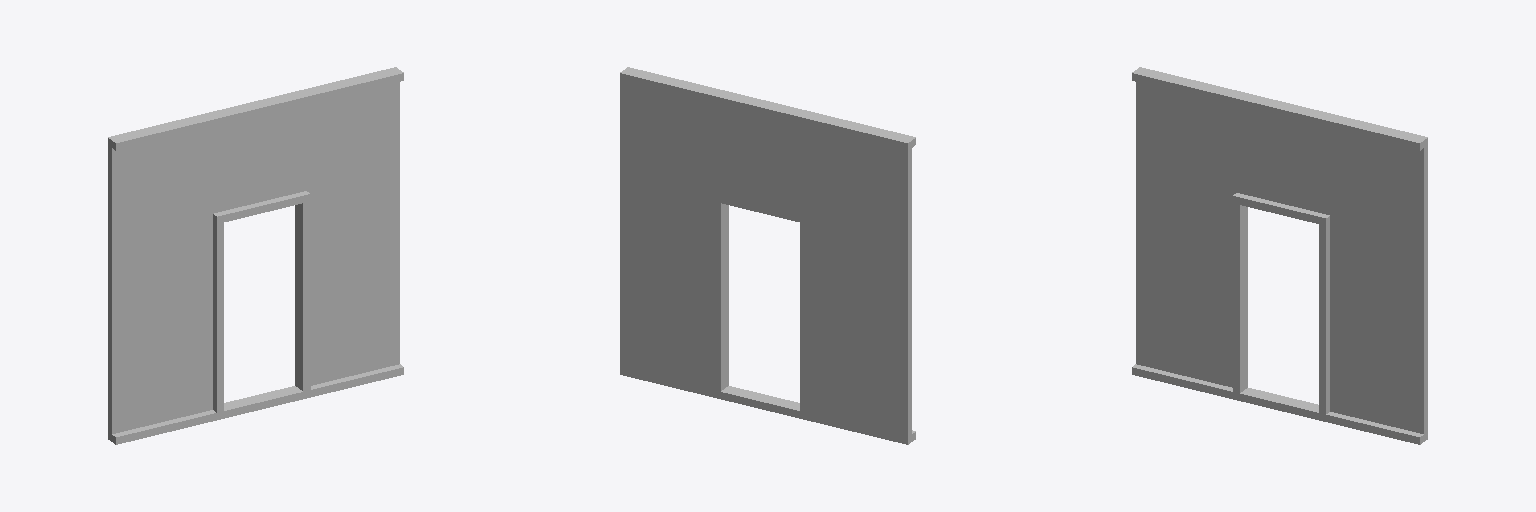
The model's file is doorway.obj.
3 renders of one model, left to right at view 1: azimuth 30°, elevation 25°; view 2: azimuth 150°, elevation 25°; view 3: azimuth 330°, elevation 25°, orthographic.
Visible parts, largest first — view 1: object 1; view 2: object 1; view 3: object 1.
Boxes of the visible parts, <box> form: object 1: <box>108,67,403,444</box>; object 1: <box>620,67,915,444</box>; object 1: <box>1132,67,1427,444</box>.
Size of the model in its own units: 4 by 4 by 0.2.